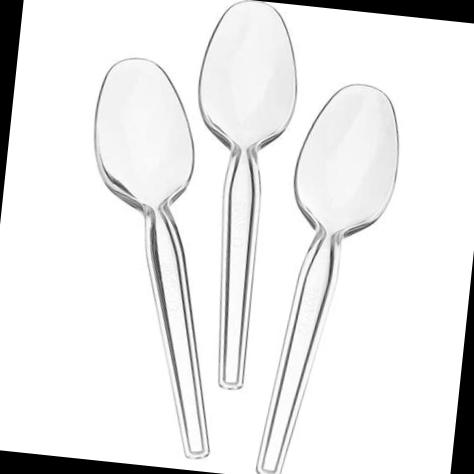Plastik: (257, 85, 398, 473), (95, 58, 208, 457), (199, 1, 296, 388)
